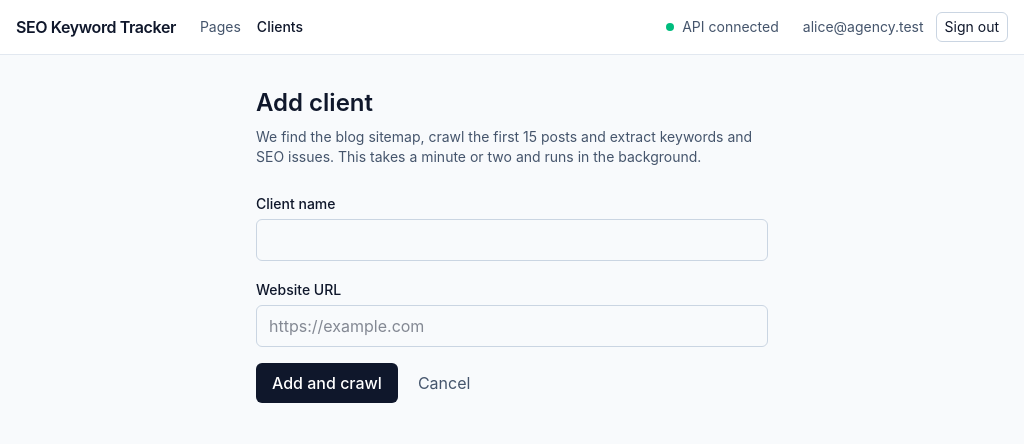
it: add client › shows the server reason on the URL field
Type "Internal" into the field labelled "Client name" at (512, 240), box 256,219 -> 768,261
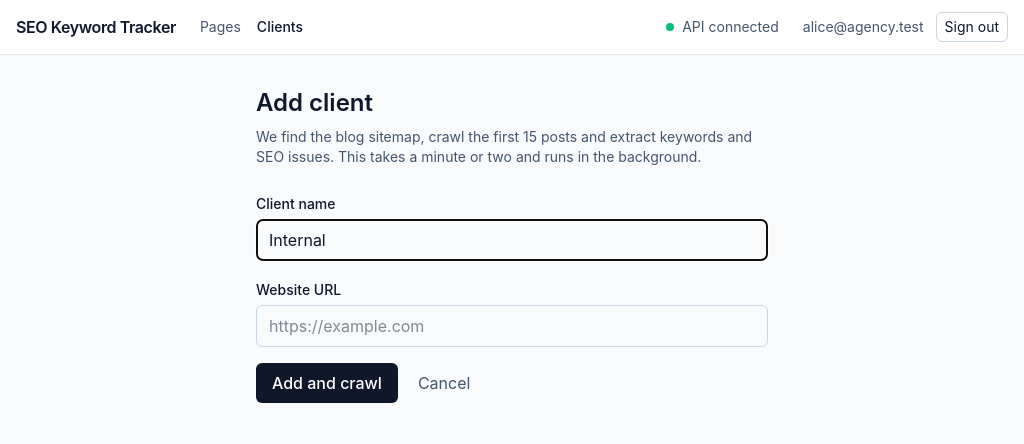
Type "http://10.0.0.5/" into the field labelled "Website URL" at (512, 326), box 256,305 -> 768,347
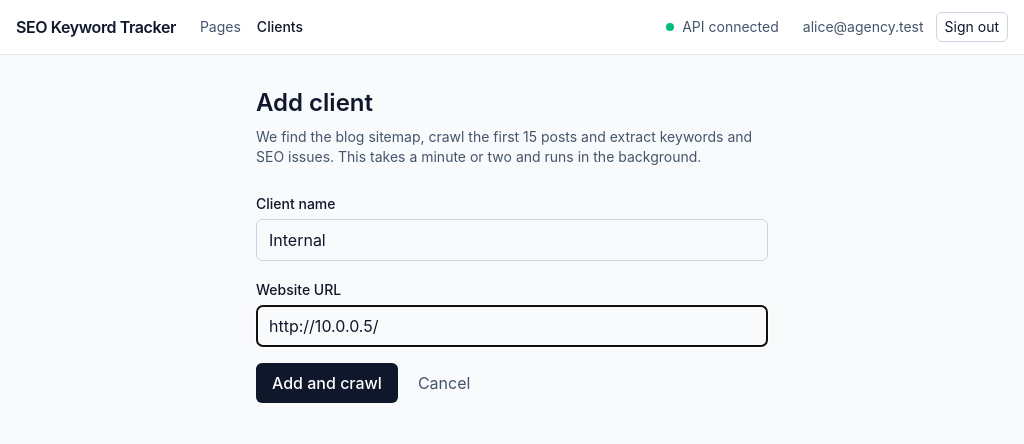
Click the button "Add and crawl" at (327, 383), box 256,363 -> 398,403
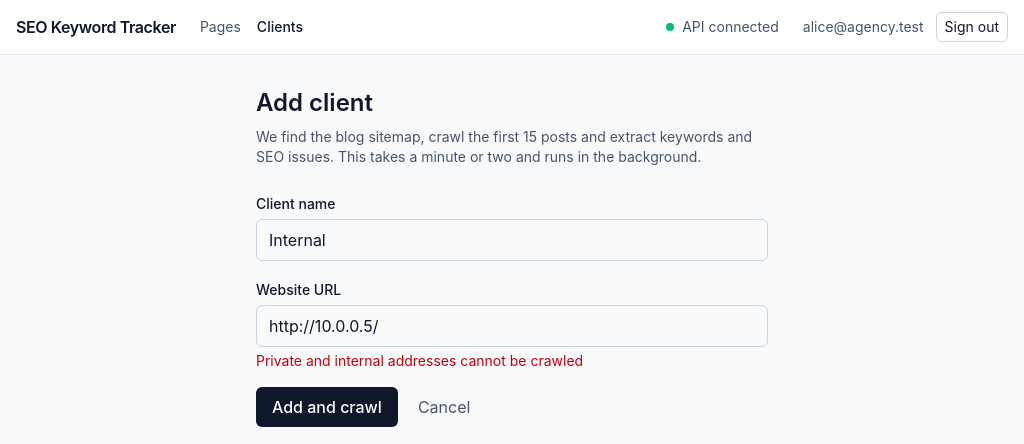
Expected: the text "Private and internal addresses cannot be crawled" is shown, 256,352 -> 583,369
